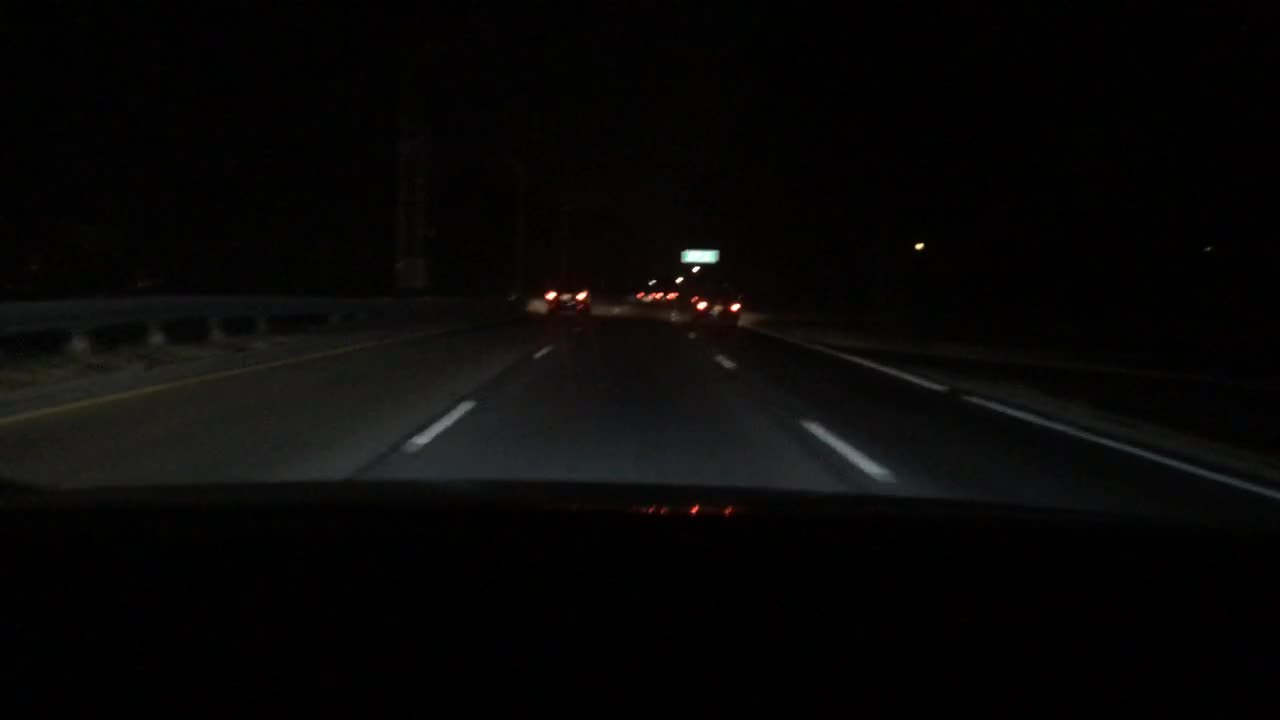car: (687, 284, 742, 324), (541, 274, 591, 313), (638, 286, 676, 304)
traffic sign: (680, 249, 718, 262)
